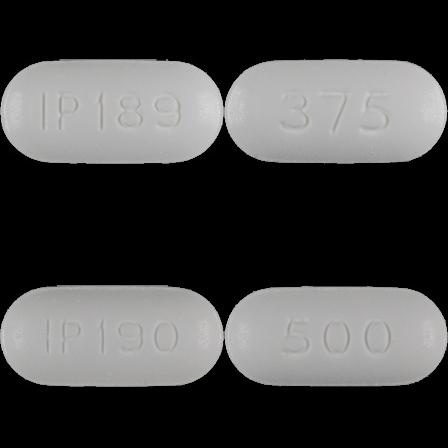68788-9906: (0, 0, 224, 224)
